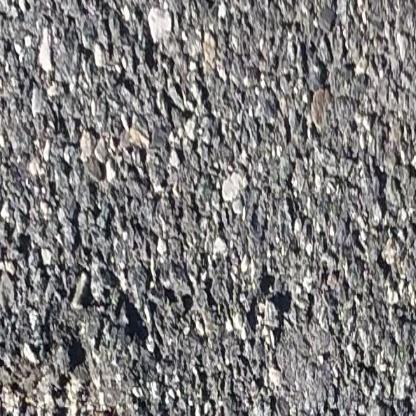Cracks: (0, 269, 150, 416)
